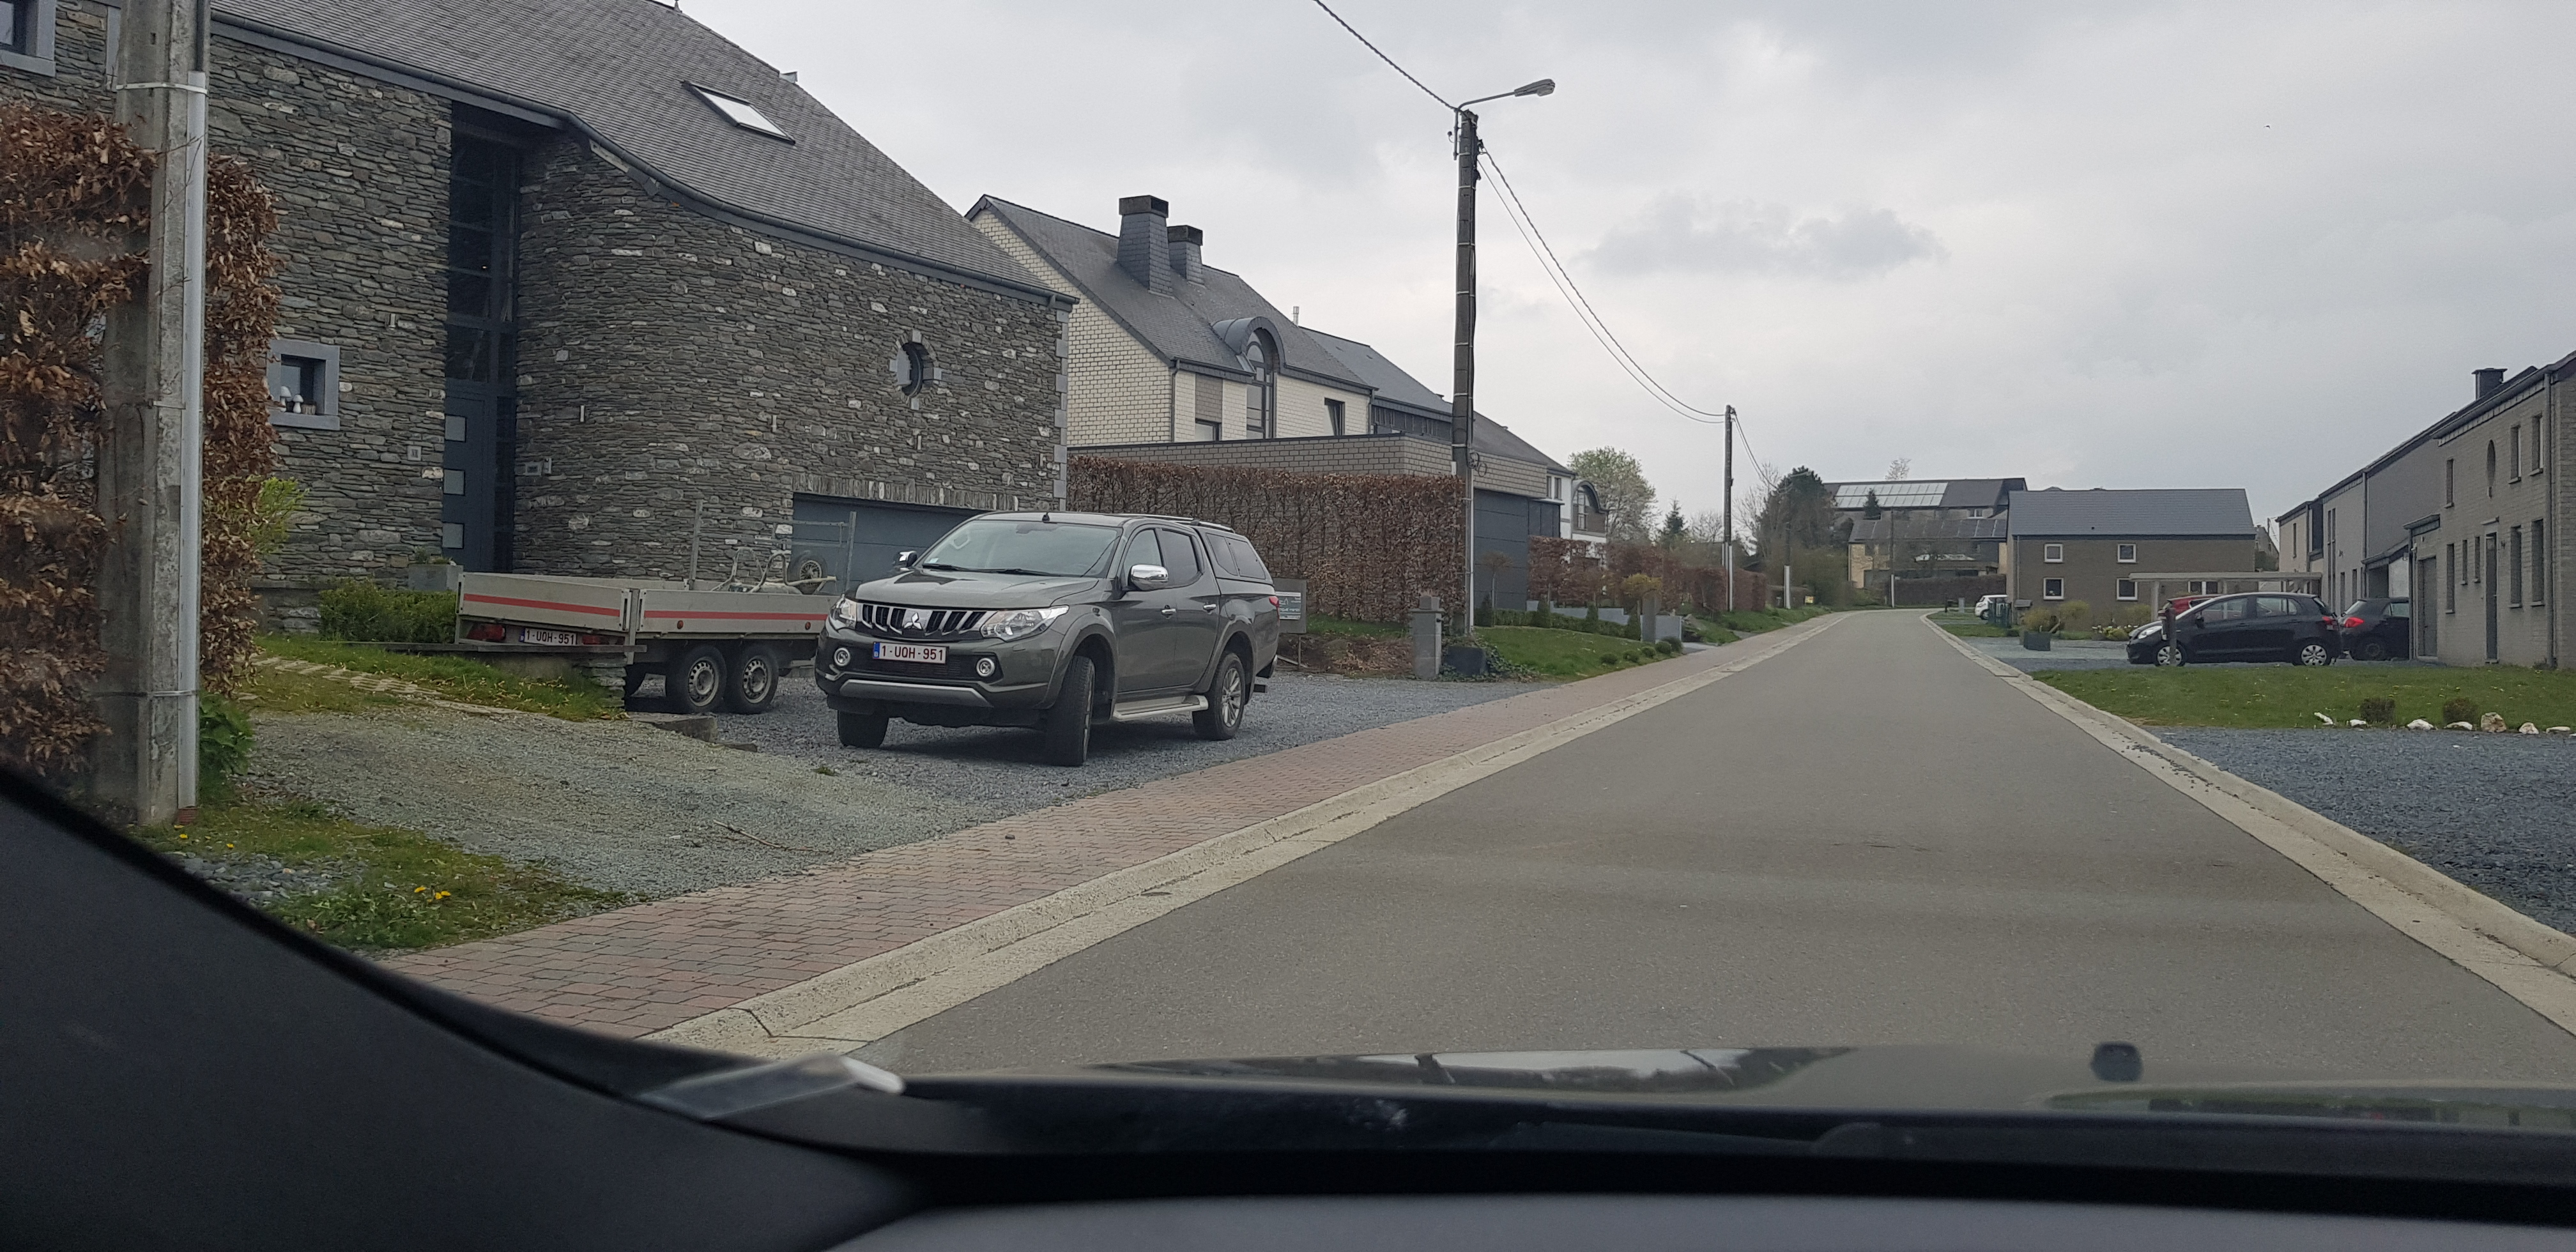licenceplate: (871, 641, 949, 665)
